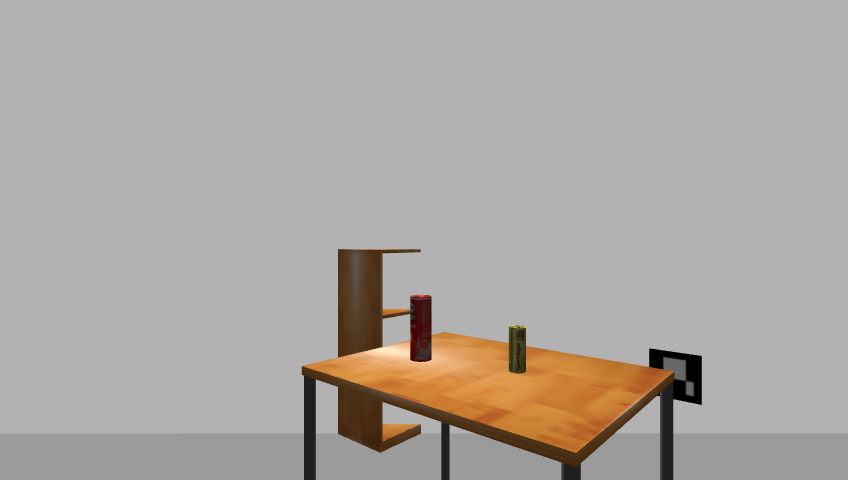aruco marker: (645, 347, 707, 406)
biscuits pack: (507, 325, 528, 375)
bookshelf: (333, 245, 424, 456)
dinner table: (294, 334, 682, 480)
pringles can: (408, 294, 434, 364)
